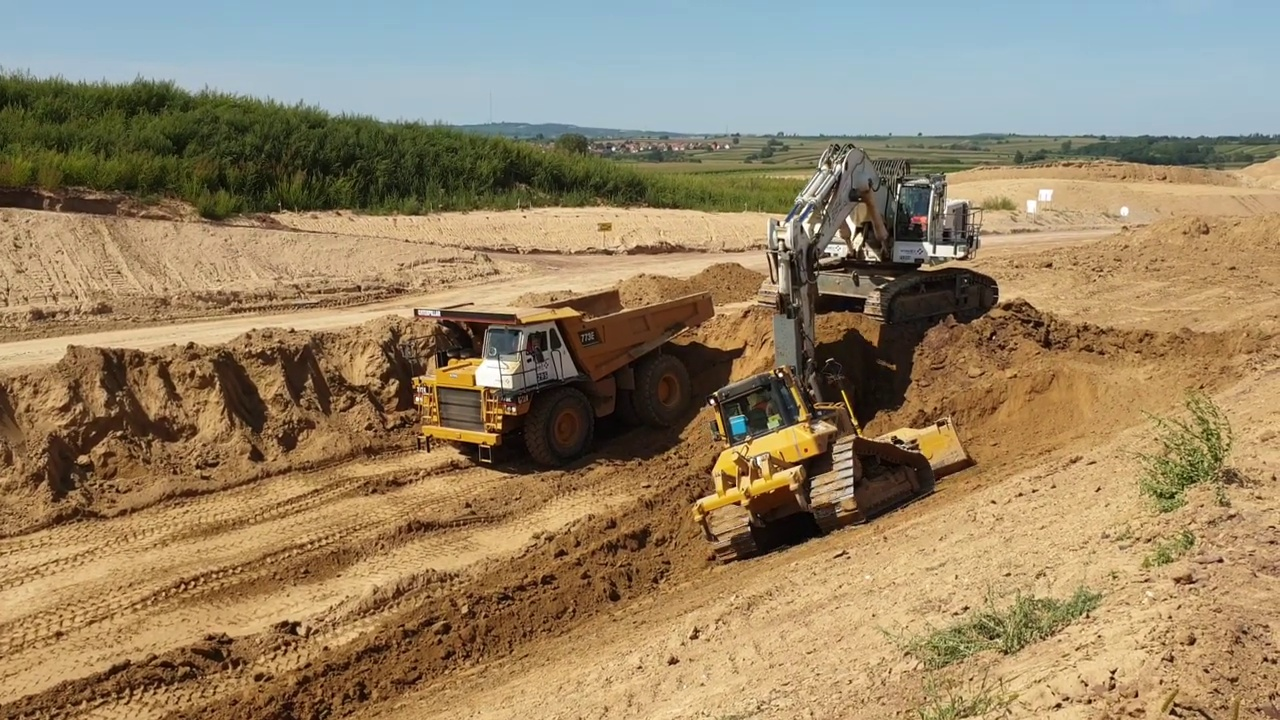bulldozer: (687, 354, 976, 562)
excavator: (743, 138, 999, 472)
truck: (408, 285, 718, 478)
